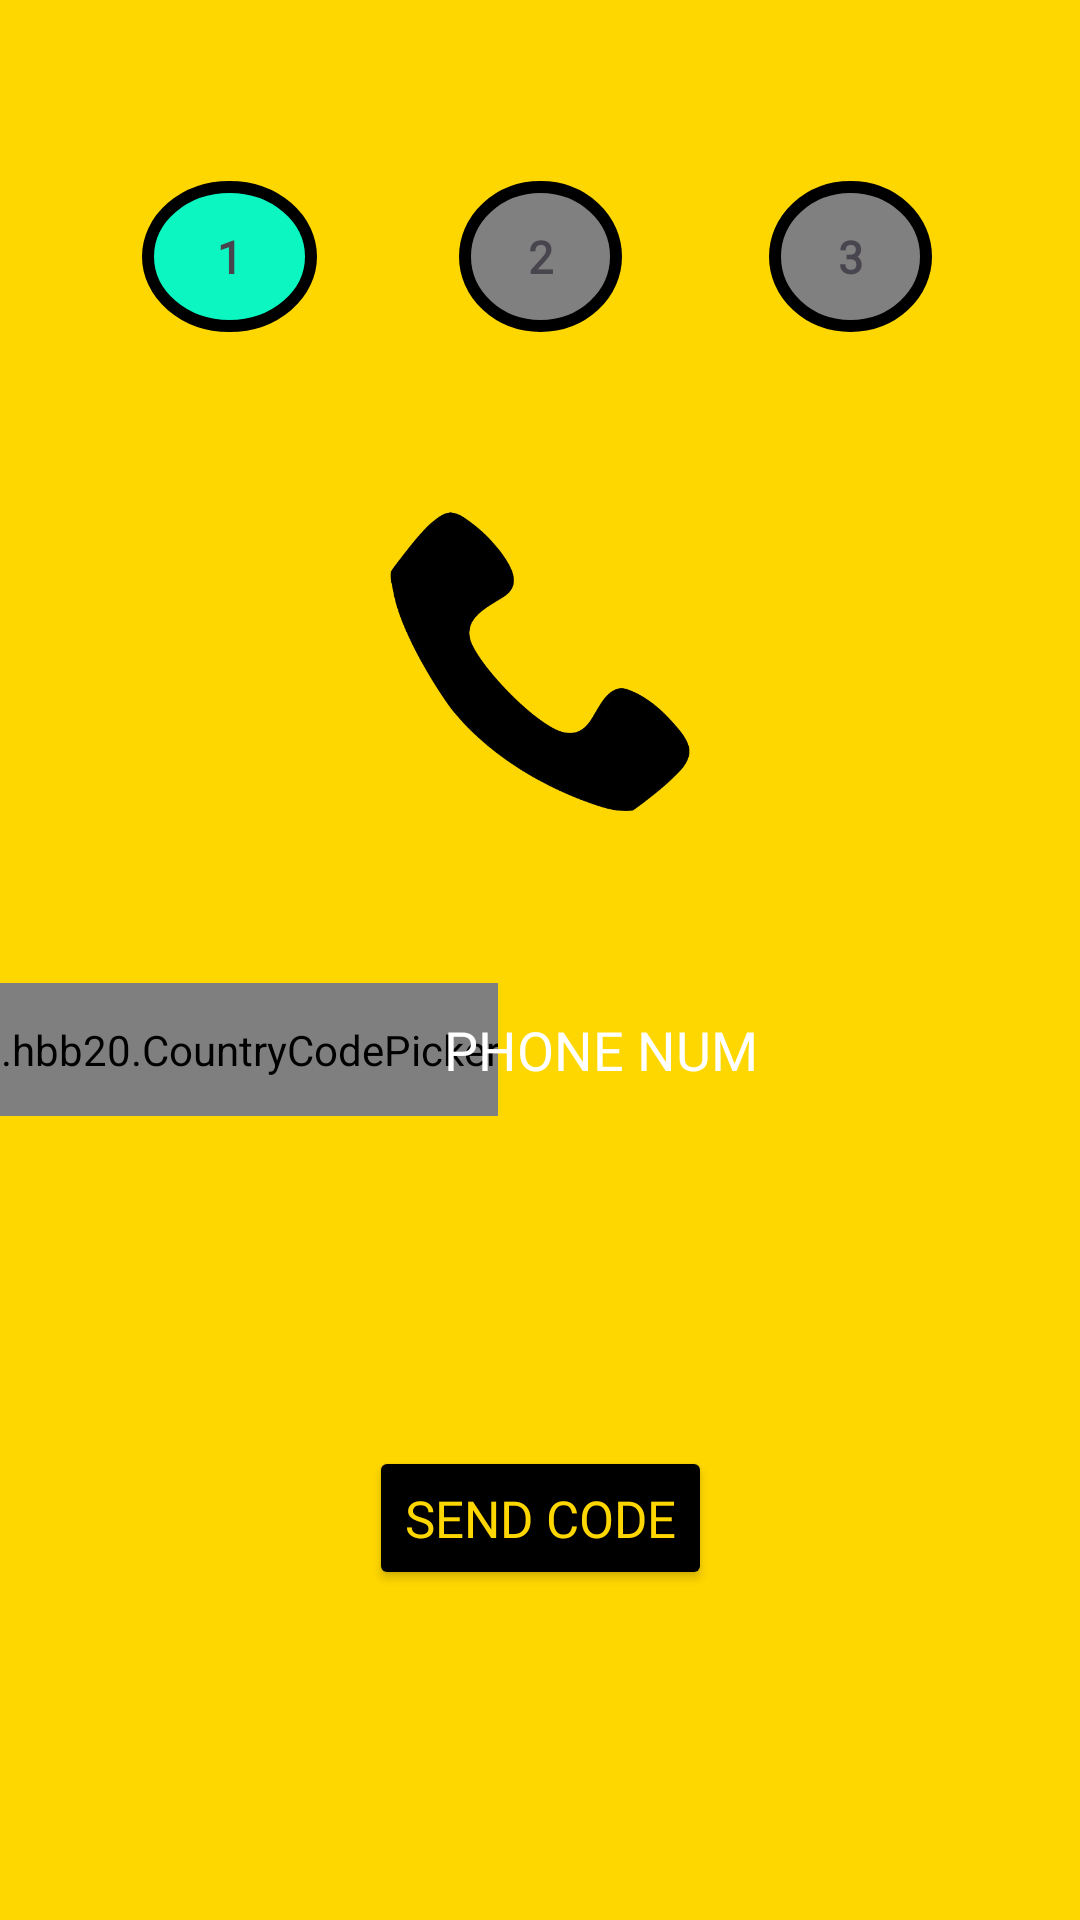

Named icons in this screenshot (1080×1920) and their centers, (x,y):
phone: (540,661)
